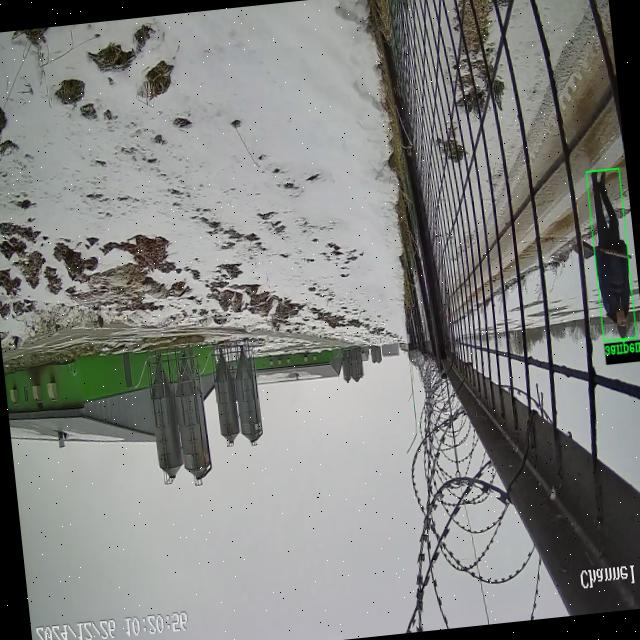Person: (591, 172, 630, 336)
